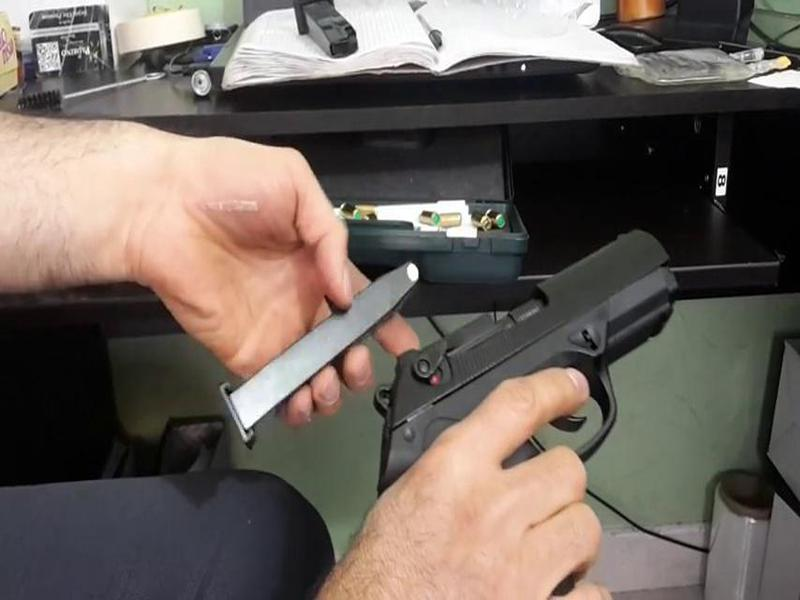Pistola: (378, 216, 723, 540)
